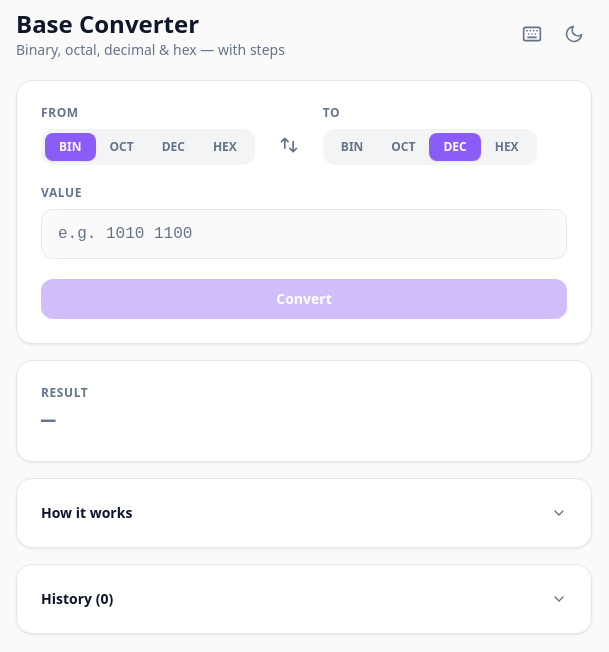
Scenario: App › filters invalid characters for binary input
Type "1023abc" into the field named "Value to convert" at (304, 234), box 41,209 -> 567,259
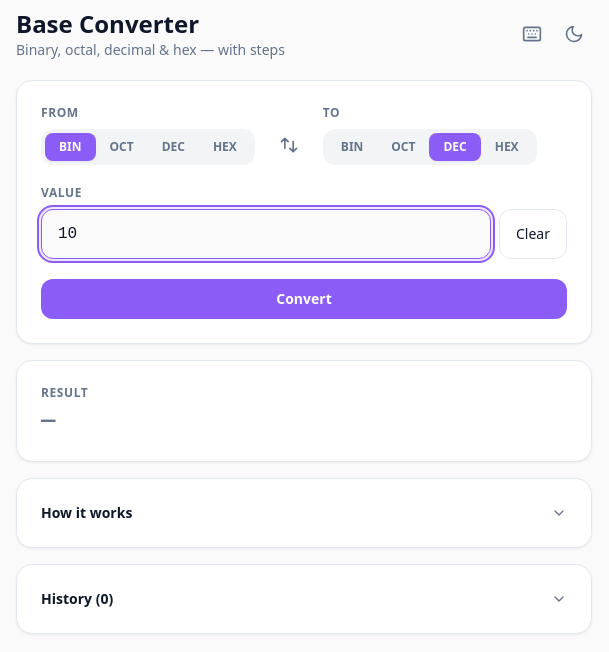
expect the field named "Value to convert" holds "10": met, box 41,209 -> 491,259
